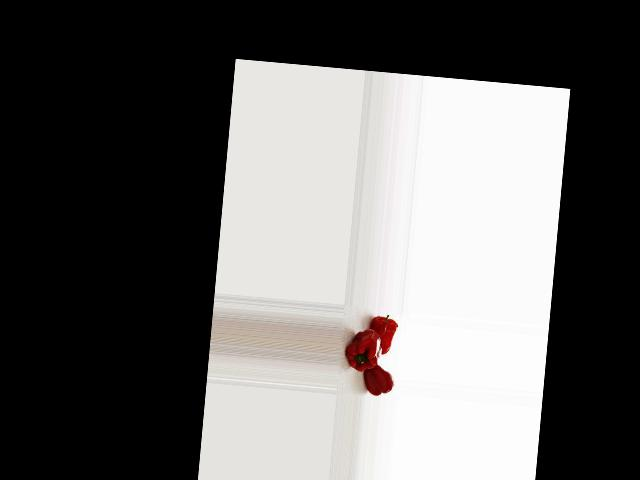bell_pepper: (360, 365, 395, 398)
